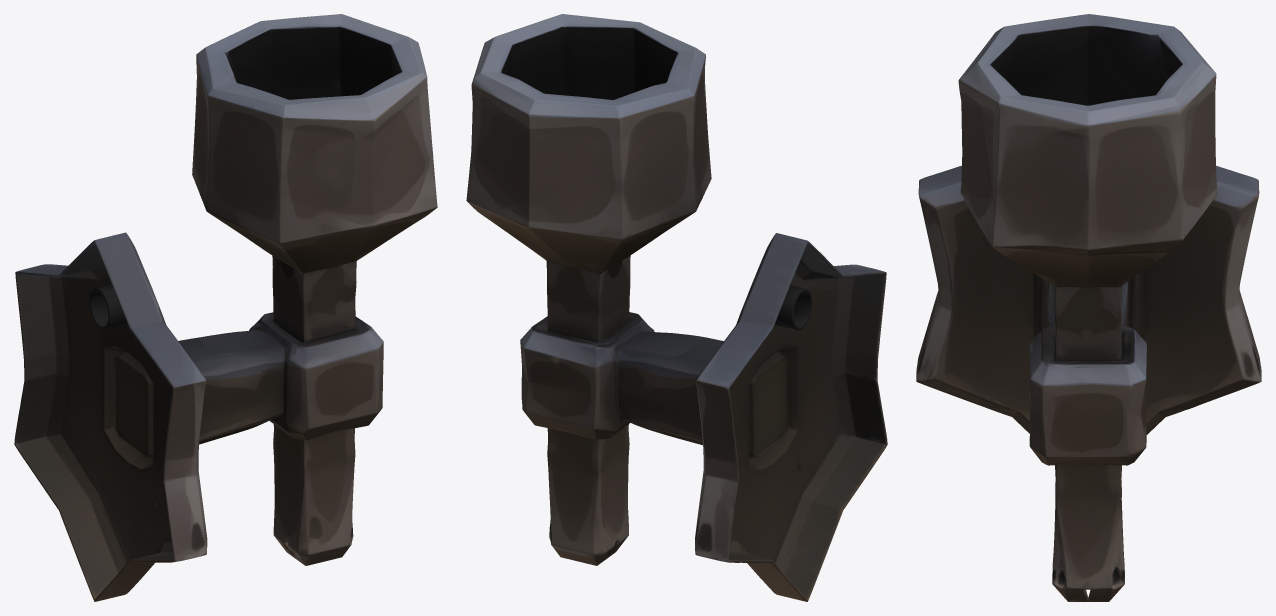
Rendered from wall-torch_1024.glb.
3 views of the same model, side by side, from view 1: azimuth 30°, elevation 25°; view 2: azimuth 150°, elevation 25°; view 3: azimuth 270°, elevation 25° (orthographic). The views are drawn at different scales.
Parts seen in each view (by area): view 1: node_0; view 2: node_0; view 3: node_0.
Boxes of the visible parts, x1,y1,x2,y2 form: node_0: (14, 14, 437, 601); node_0: (466, 14, 887, 601); node_0: (916, 14, 1261, 601).
Bounding box in the file's own units: 0.6931 × 1.01 × 0.5944.
1 material, 1 textured.
